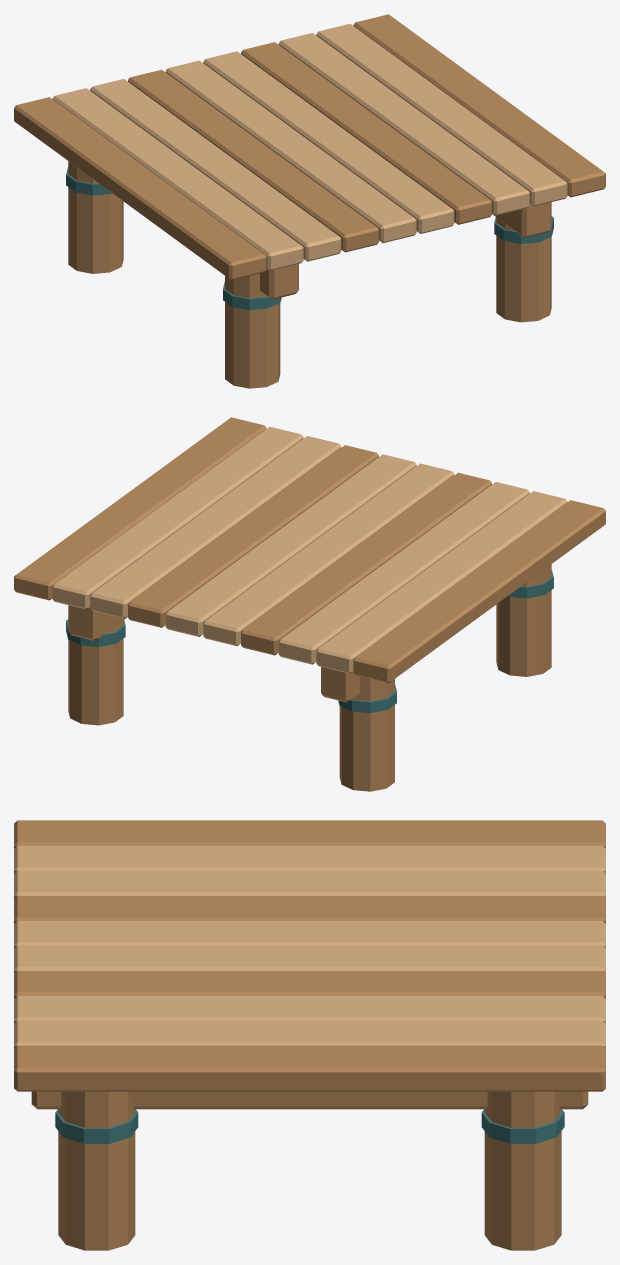
3 views of the same model, one above another, from view 1: azimuth 30°, elevation 25°; view 2: azimuth 150°, elevation 25°; view 3: azimuth 270°, elevation 25° (orthographic). The views are drawn at different scales.
Parts seen in each view (by area): view 1: harbor-dock-module-01; view 2: harbor-dock-module-01; view 3: harbor-dock-module-01.
Part boxes in pixels (x1,y1,x2,y2): harbor-dock-module-01: (14,14,605,388); harbor-dock-module-01: (14,417,605,791); harbor-dock-module-01: (14,820,605,1250).
Bounding box in the file's own units: 2 × 0.75 × 2.
